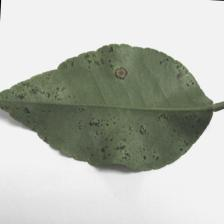canker: (42, 51, 176, 175)
